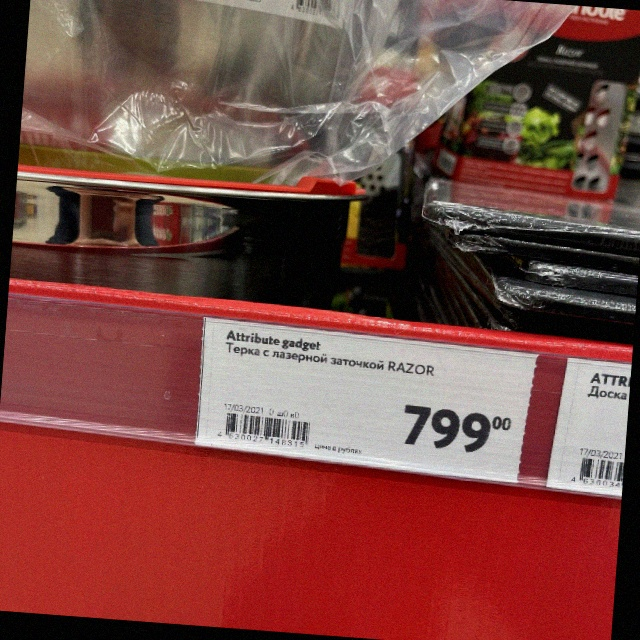barcode: (213, 408, 312, 450)
name: (222, 327, 434, 378)
price: (403, 400, 513, 459)
price_tag: (201, 314, 541, 487)
